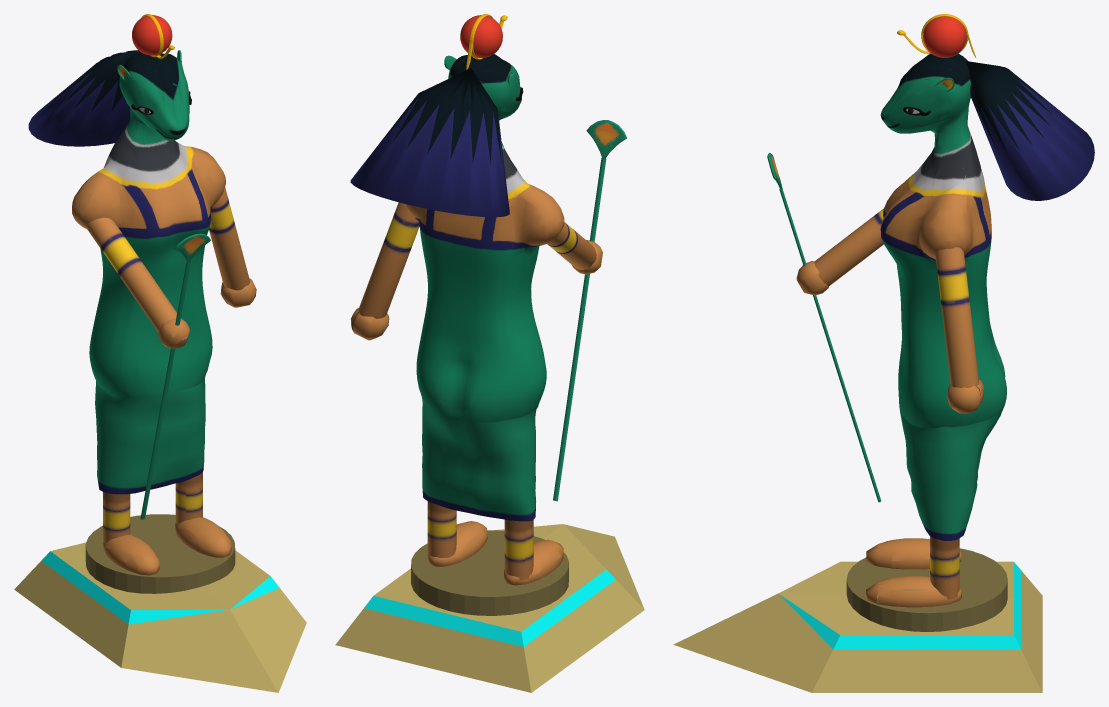
File: Sekhmet 2.0.fbx
3 renders of one model, left to right at view 1: azimuth 30°, elevation 25°; view 2: azimuth 150°, elevation 25°; view 3: azimuth 270°, elevation 25°, orthographic. The views are drawn at different scales.
Visible parts, largest first — view 1: Cylinder.008, Kubus, Cylinder.007, Cylinder, Kegel.001, Cylinder.003, Cylinder.004, Cylinder.001, Cylinder.005, Sphere, Cylinder.002, Cylinder.006; view 2: Cylinder.008, Kubus, Kegel.001, Cylinder.007, Cylinder, Cylinder.004, Cylinder.005, Cylinder.001, Cylinder.002, Sphere, Cylinder.003, Cylinder.006; view 3: Cylinder.008, Kubus, Kegel.001, Cylinder.007, Cylinder, Cylinder.004, Cylinder.003, Cylinder.002, Sphere, Cylinder.005.
Boxes of the visible parts, box(x1,y1,x2,y2) form: Cylinder.008: box(72, 52, 256, 575); Kubus: box(14, 542, 306, 692); Cylinder.007: box(95, 375, 205, 494); Cylinder: box(85, 514, 235, 593); Kegel.001: box(28, 50, 162, 146); Cylinder.003: box(85, 217, 177, 331); Cylinder.004: box(209, 187, 249, 290); Cylinder.001: box(103, 492, 130, 544); Cylinder.005: box(140, 261, 190, 519); Sphere: box(132, 15, 172, 55); Cylinder.002: box(175, 472, 202, 524); Cylinder.006: box(174, 233, 210, 262); Cylinder.008: box(350, 54, 602, 585); Kubus: box(335, 524, 644, 692); Kegel.001: box(350, 68, 509, 217); Cylinder.007: box(422, 398, 538, 521); Cylinder: box(411, 530, 568, 615); Cylinder.004: box(358, 202, 419, 318); Cylinder.005: box(553, 157, 606, 501); Cylinder.001: box(504, 519, 533, 580); Cylinder.002: box(427, 501, 456, 557); Sphere: box(460, 15, 502, 57); Cylinder.003: box(547, 222, 596, 269); Cylinder.006: box(586, 120, 626, 159); Cylinder.008: box(796, 53, 1006, 607); Kubus: box(673, 561, 1042, 692); Kegel.001: box(965, 61, 1094, 200); Cylinder.007: box(899, 401, 1002, 540); Cylinder: box(846, 548, 1007, 631); Cylinder.004: box(935, 247, 979, 387); Cylinder.003: box(814, 208, 883, 286); Cylinder.002: box(930, 426, 959, 599); Sphere: box(923, 16, 966, 57); Cylinder.005: box(779, 189, 881, 502).
Size of the model in its own units: 440 by 1205 by 732.
17 materials, 6 textured.
